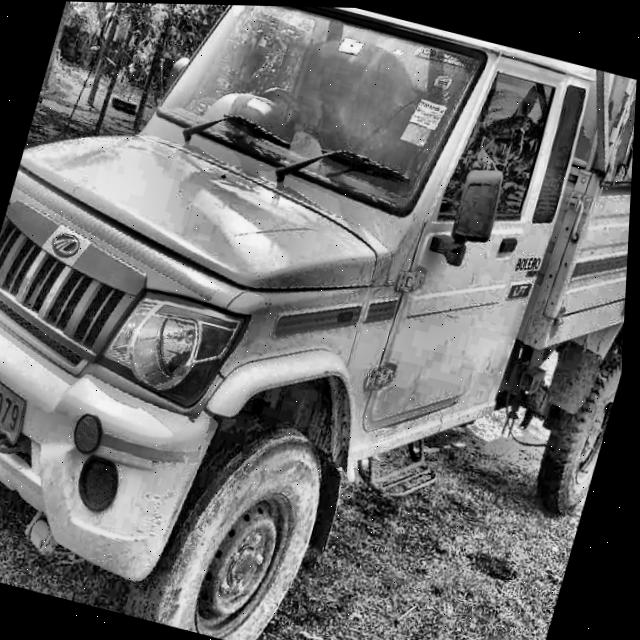light_vehicle: (0, 0, 640, 638)
